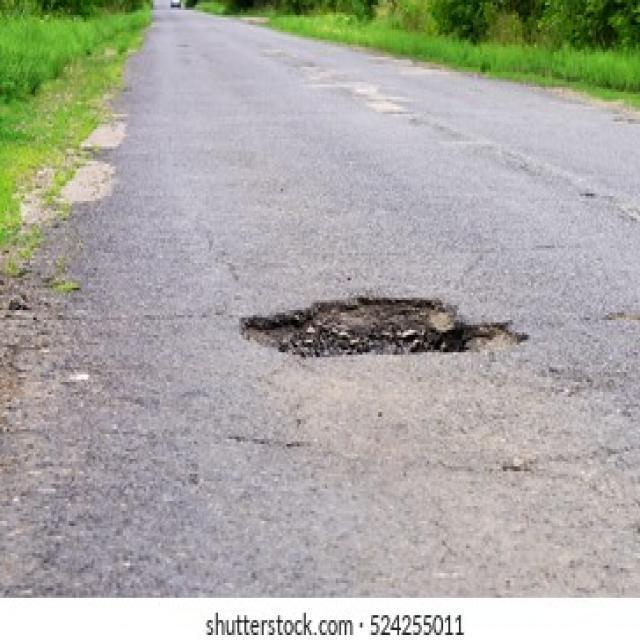Pothole: (239, 297, 527, 359)
